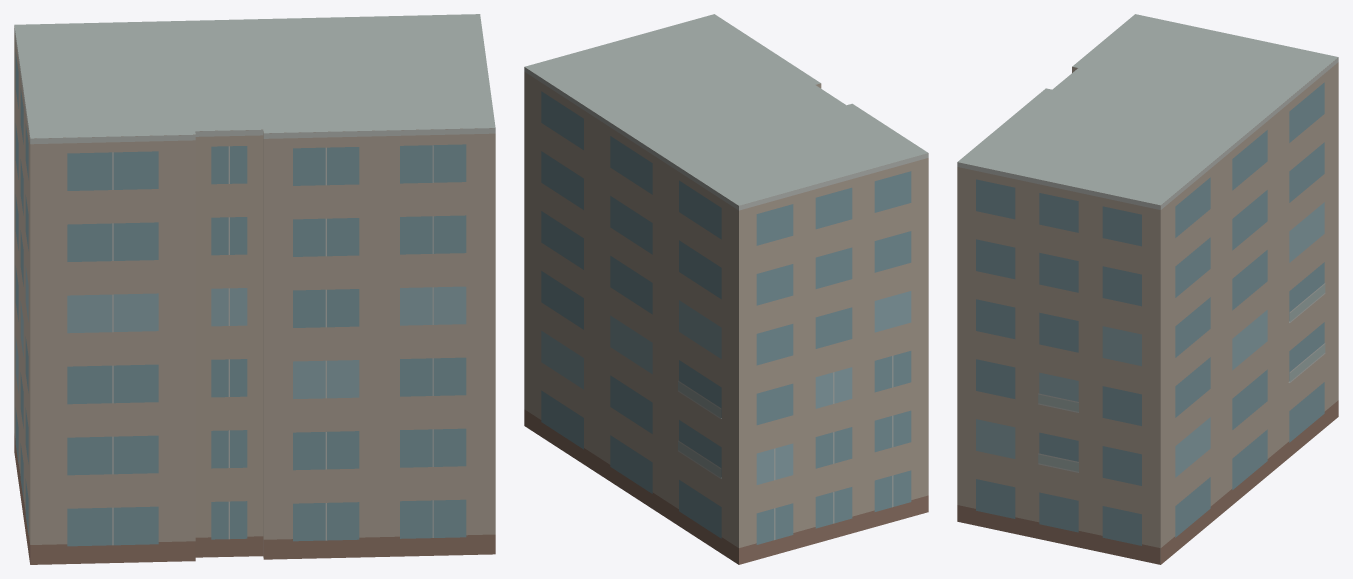
The model's file is survey-upis-33006999.glb.
3 renders of one model, left to right at view 1: azimuth 30°, elevation 25°; view 2: azimuth 150°, elevation 25°; view 3: azimuth 270°, elevation 25°, orthographic. The views are drawn at different scales.
Visible parts, largest first — view 1: survey-upis-33006999.tmp; view 2: survey-upis-33006999.tmp; view 3: survey-upis-33006999.tmp.
Boxes of the visible parts, x1,y1,x2,y2 form: survey-upis-33006999.tmp: [14, 14, 495, 564]; survey-upis-33006999.tmp: [524, 14, 928, 564]; survey-upis-33006999.tmp: [957, 14, 1338, 564].
Size of the model in its own units: 20.9 by 18.3 by 17.6.
